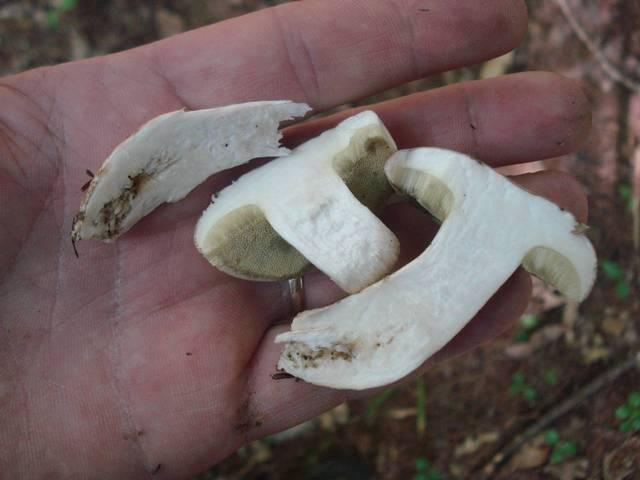Edible Mushroom: (271, 144, 598, 391), (192, 108, 402, 293), (68, 97, 313, 253)
